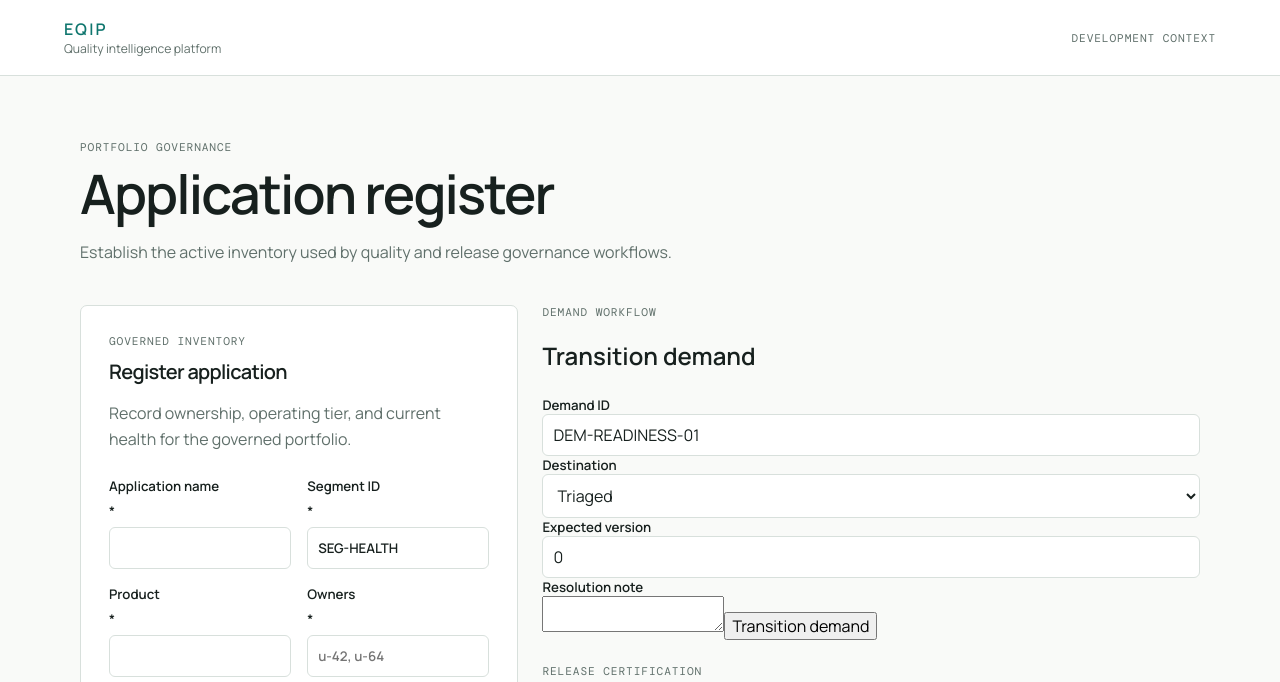
Test: App › requires a terminal demand resolution note before making a request
The width and height of the screenshot is (1280, 682).
Select "Cancelled" in the dropdown labelled "Destination". click: coordinates (871, 496)
box: [542, 474, 1200, 518]
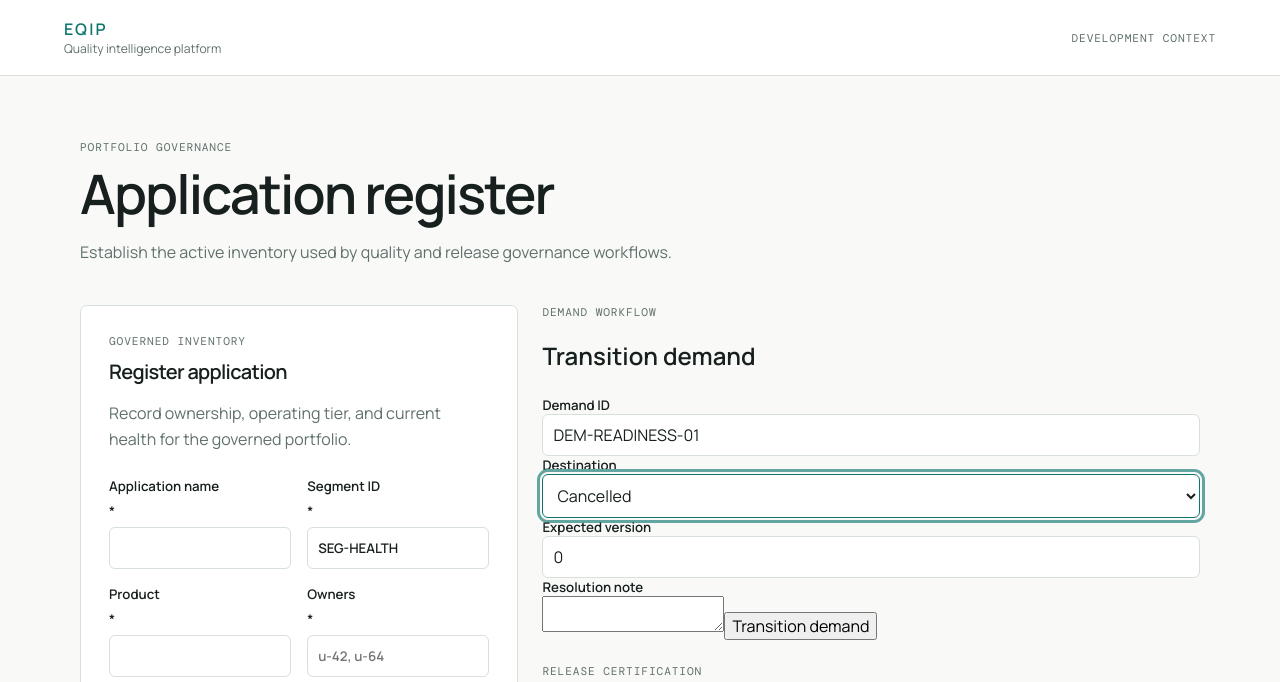
Click the button "Transition demand". click: coordinates (801, 626)
box: [724, 612, 877, 640]
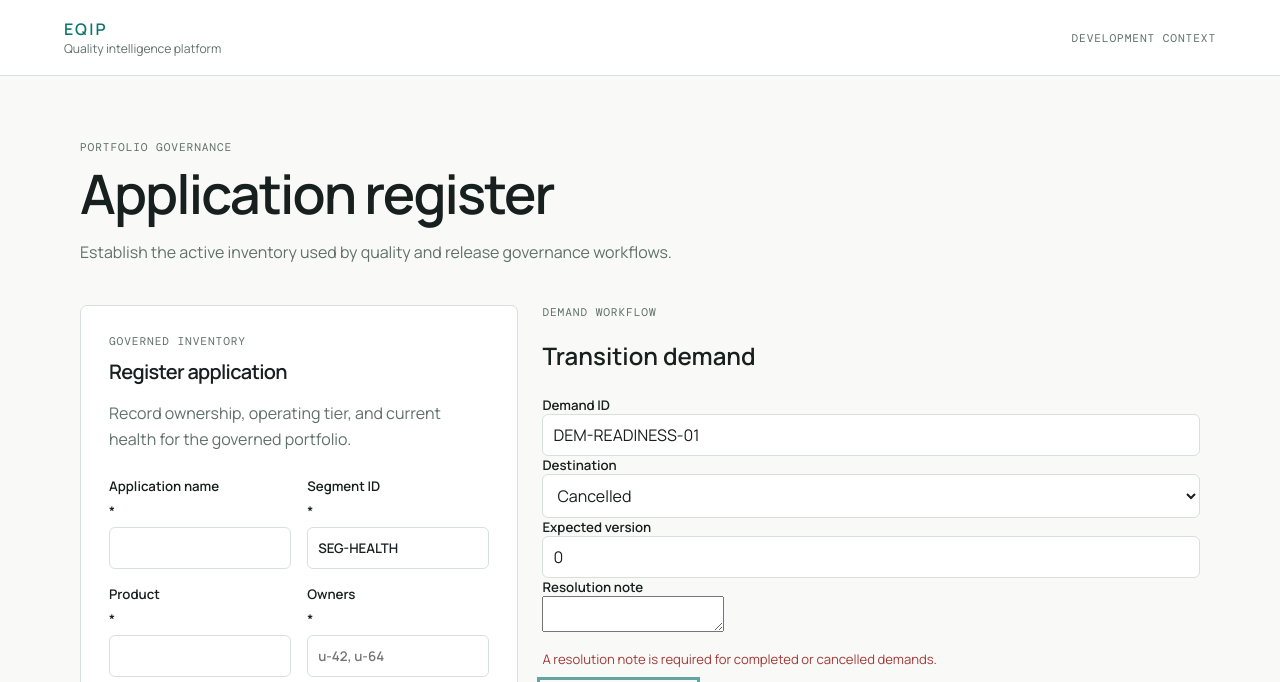
Expected: the message shows "resolution note is required", [542, 650, 937, 668]
